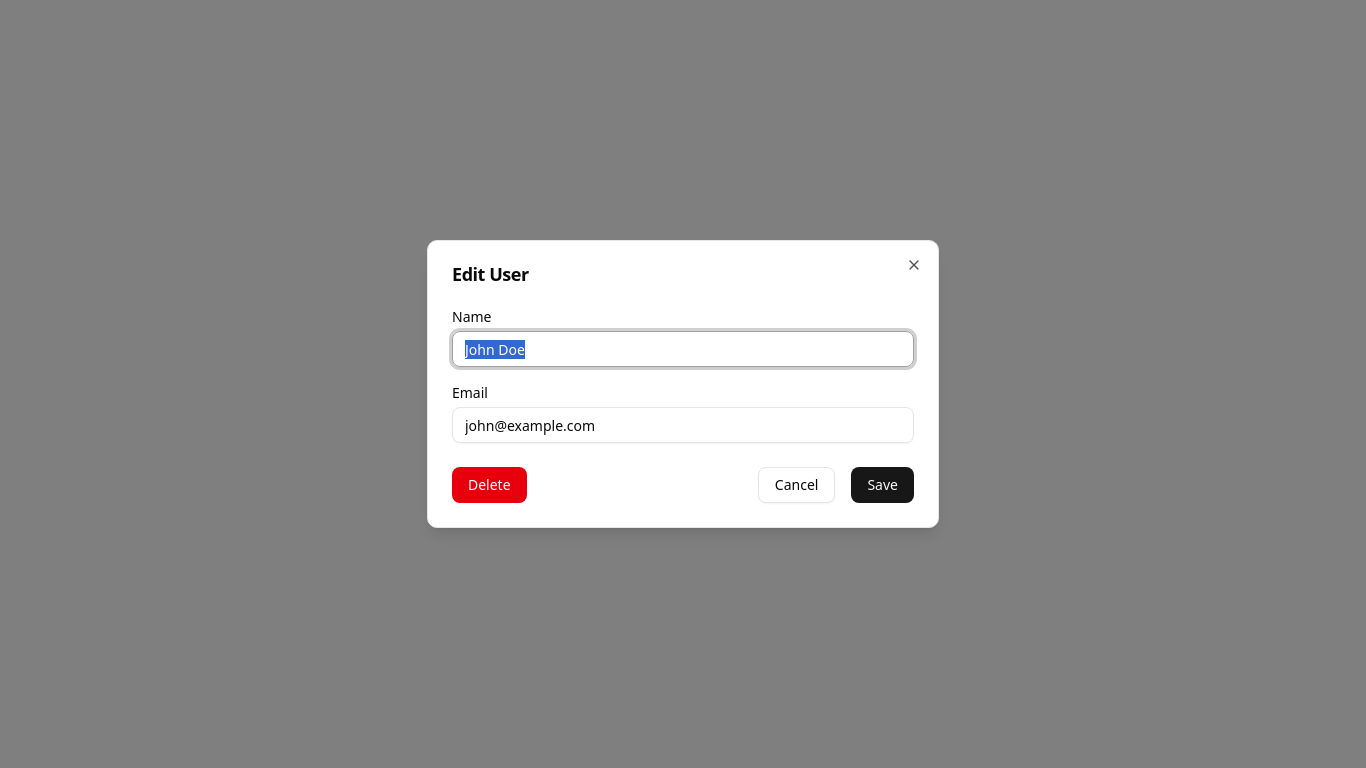
US3: EditUserDialog コンポーネント › 削除機能 › 削除ボタンをクリックすると確認ダイアログが表示されること
What coordinates should you click on to do the following:
click the button "Delete"
I would click on:
 (489, 485)
Its box is left=452, top=467, right=527, bottom=503.
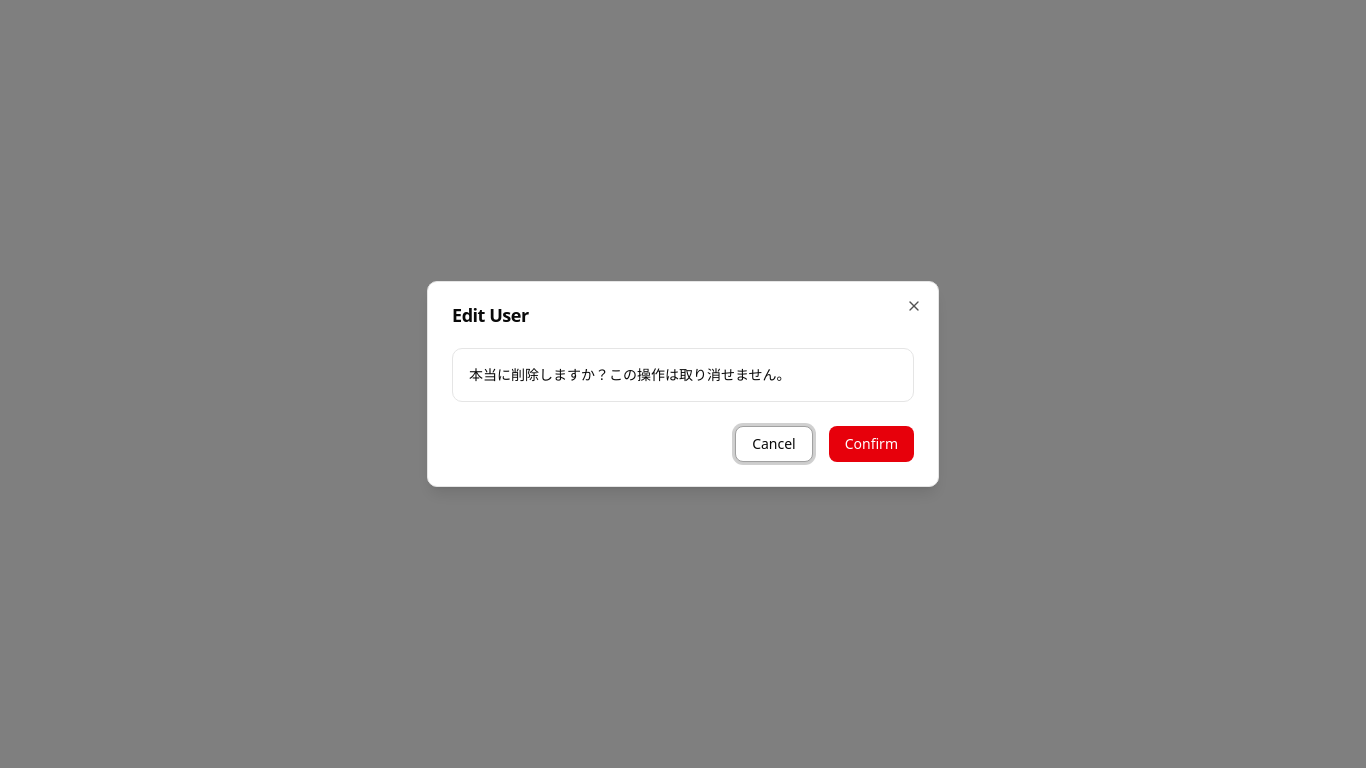
expect the text "本当に削除しますか？この操作は取り消せません。" is shown: met, box left=452, top=348, right=914, bottom=402
